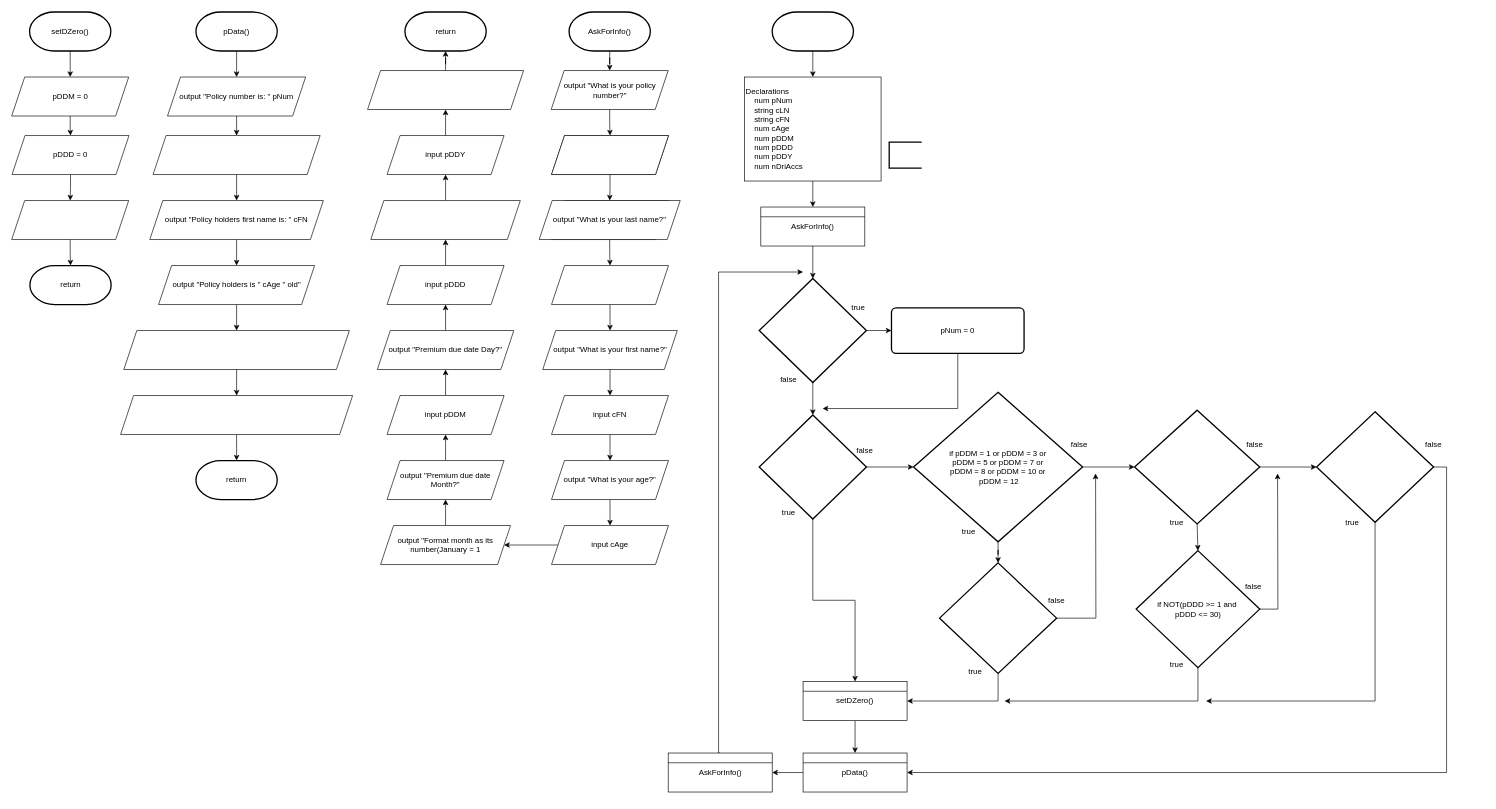
Image size: 1496x809. Some labels were removed from this diagram. Here are the shapes that lost their labels. From the top down, the box of each, then its label:
(771, 11, 854, 51): start
(367, 70, 524, 110): output "How many driving accidents have you had in the last 3 years?"
(152, 135, 320, 175): output "Policy holders last name is: " cLN
(551, 135, 669, 175): input pNum
(888, 141, 922, 168): //This program has no end
(11, 200, 129, 240): pDDY = 0
(370, 200, 520, 240): output "Premium due date Year?"
(551, 265, 669, 305): input cLN
(123, 330, 349, 370): output "Policy Due Date is: " pDDM " ," pDDD " ," pDDY
(758, 278, 867, 383): if NOT(pNum >= 1000 and pNum <= 9999)
(120, 395, 353, 435): output "Policy holders has been in " nDriAccs " accidents"
(758, 414, 867, 519): if NOT(pDDM >= 1 and pDDM <= 12)
(1134, 409, 1260, 524): if pDDM = 4 or pDDM = 6 or pDDM = 9 or pDDM = 11
(1316, 411, 1434, 523): if NOT(pDDD >= 1 and pDDD <= 29)
(939, 562, 1057, 674): if NOT(pDDD >= 1 and pDDD <= 31)
